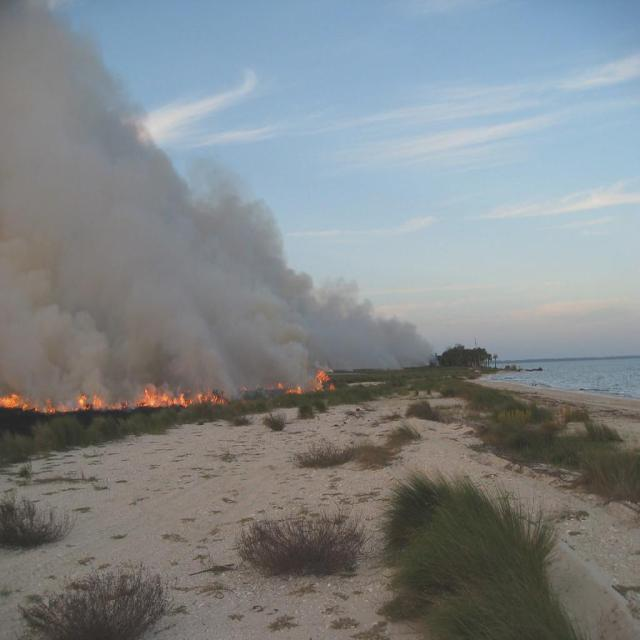Fire: (2, 379, 229, 422), (313, 368, 333, 392), (271, 381, 307, 394)
